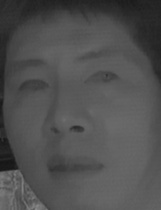eye: (85, 67, 123, 90), (15, 75, 53, 95)
mouth: (45, 147, 106, 183)
